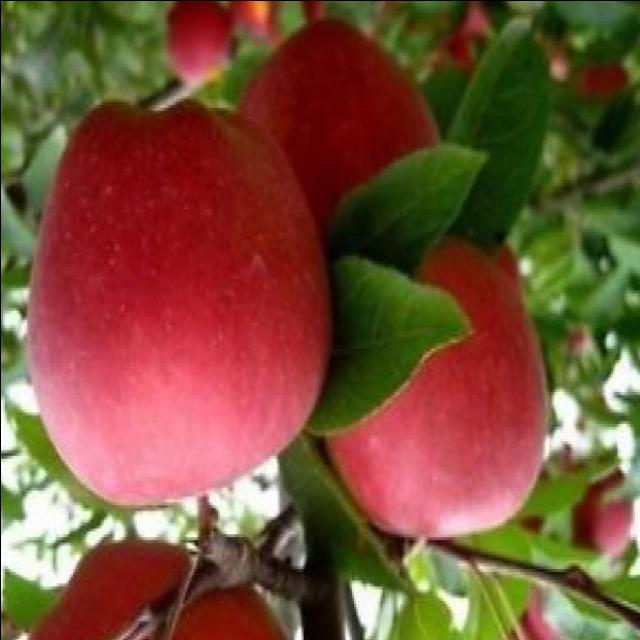apple: (17, 66, 327, 522), (217, 22, 461, 339), (324, 219, 548, 536)
